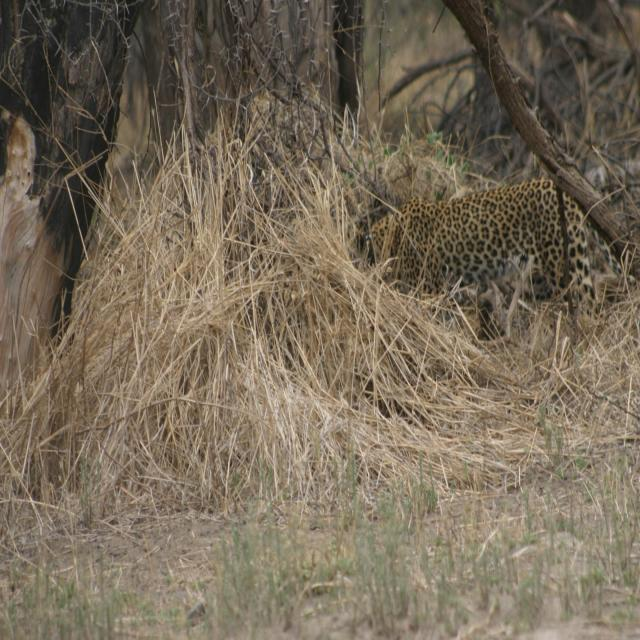Leopard: (359, 168, 614, 331)
